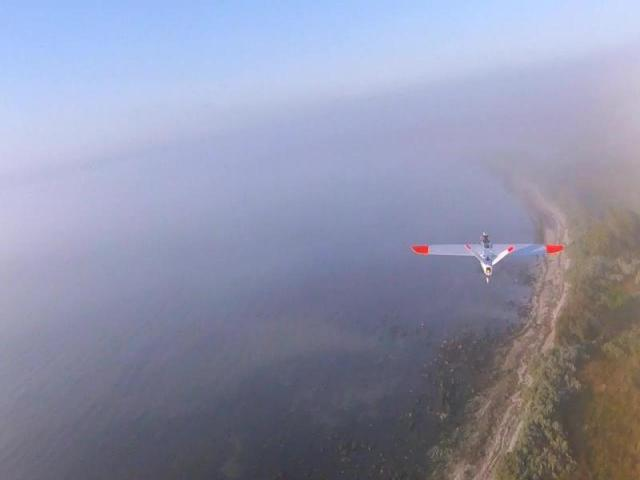hedef: (401, 225, 574, 302)
